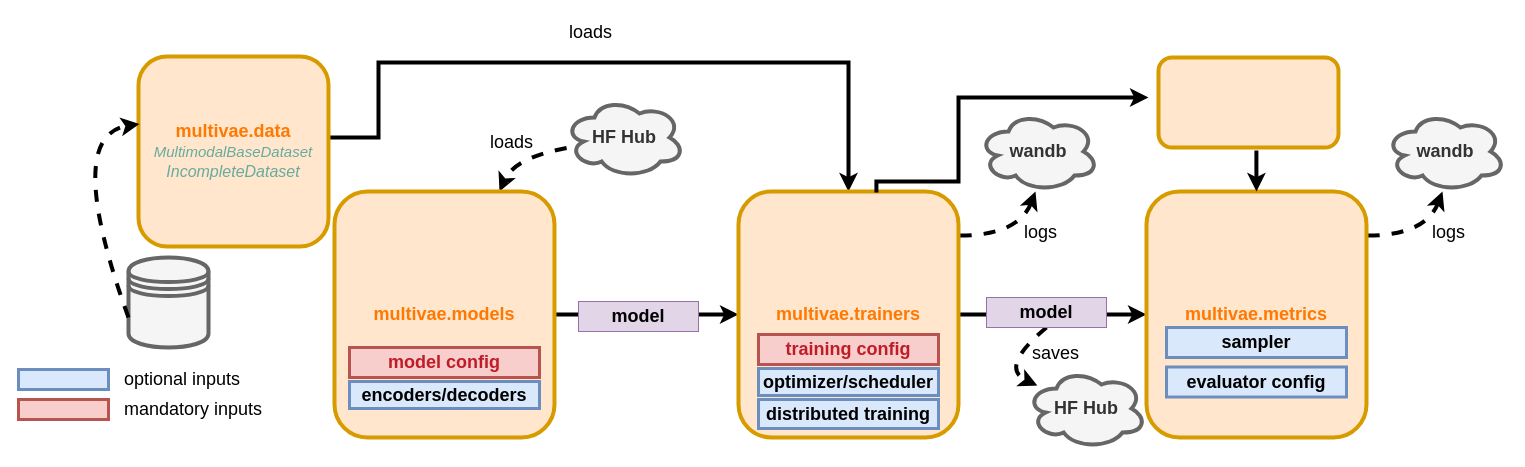
This 1525x467 diagram has some shape labels left out. The shapes that lost their labels are listed below. From the top down, each one's centre as x and y in pixels, then its label:
At (x=1248, y=102): "multivae.samplers".
At (x=168, y=302): "datasets".
